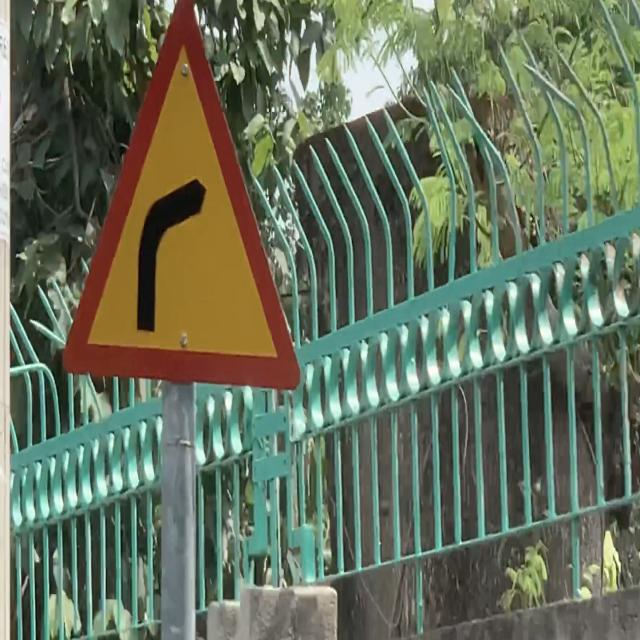Nguy hiem: (49, 0, 306, 400)
